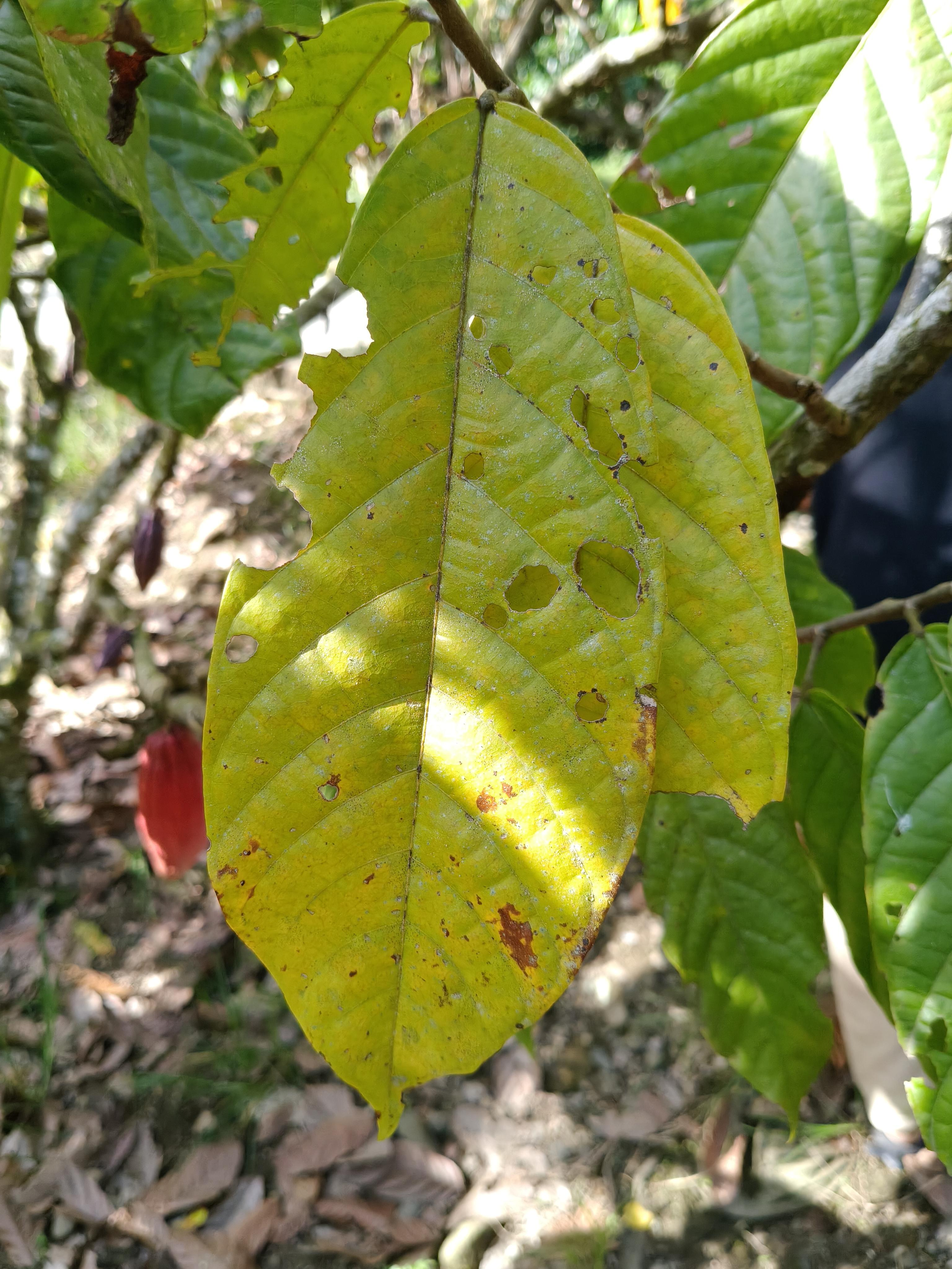deficiencia_potasio: (190, 91, 678, 1143)
